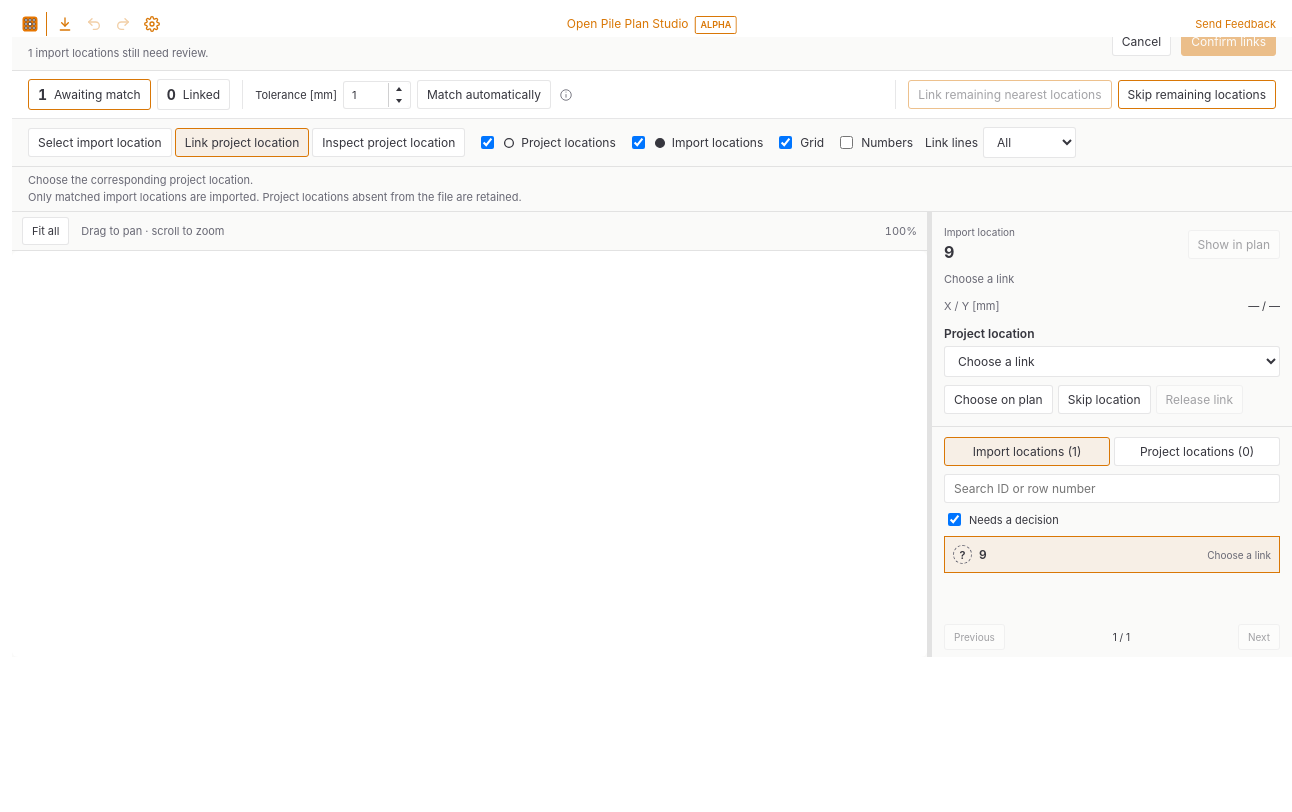
Test: the existing title-bar history buttons operate the active editor and release it on close
The image size is (1292, 812).
Click the button "Skip location".
click(1104, 400)  # box [1058,385,1150,414]
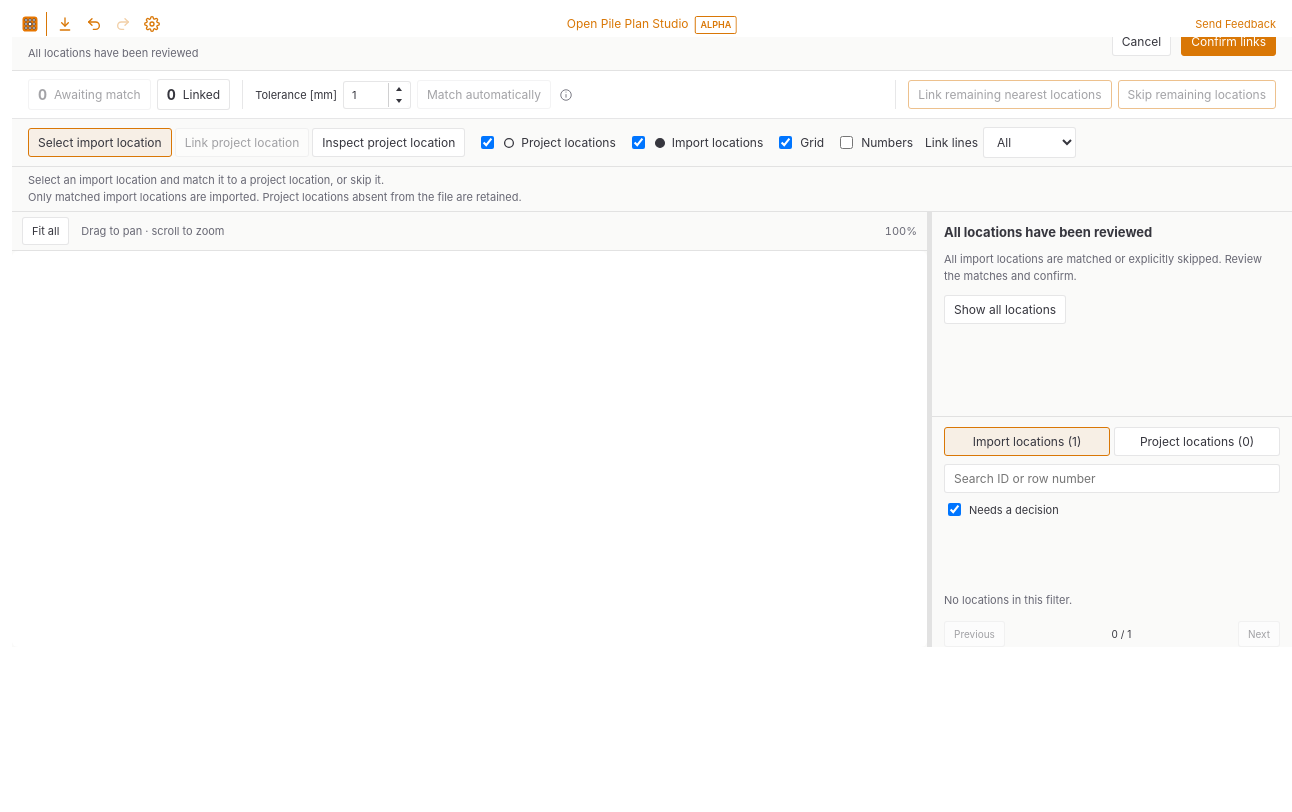
Now the button named "Undo (Ctrl+Z)" is enabled
Click the button named "Undo (Ctrl+Z)".
click(94, 24)  # box [80,12,108,36]
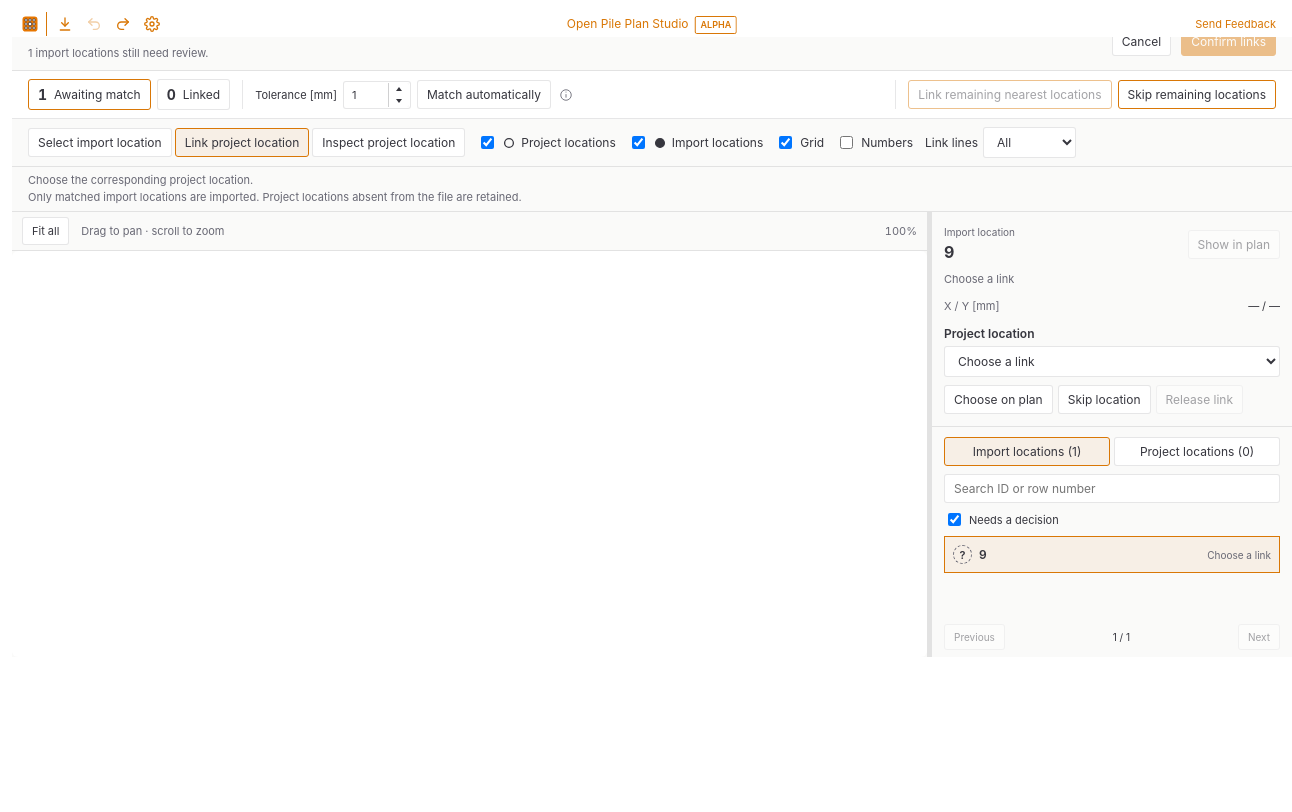
Now the button "Confirm links" is disabled, box [1181,26,1276,56]
Click the button named "Redo (Ctrl+Y)".
click(123, 24)  # box [109,12,137,36]
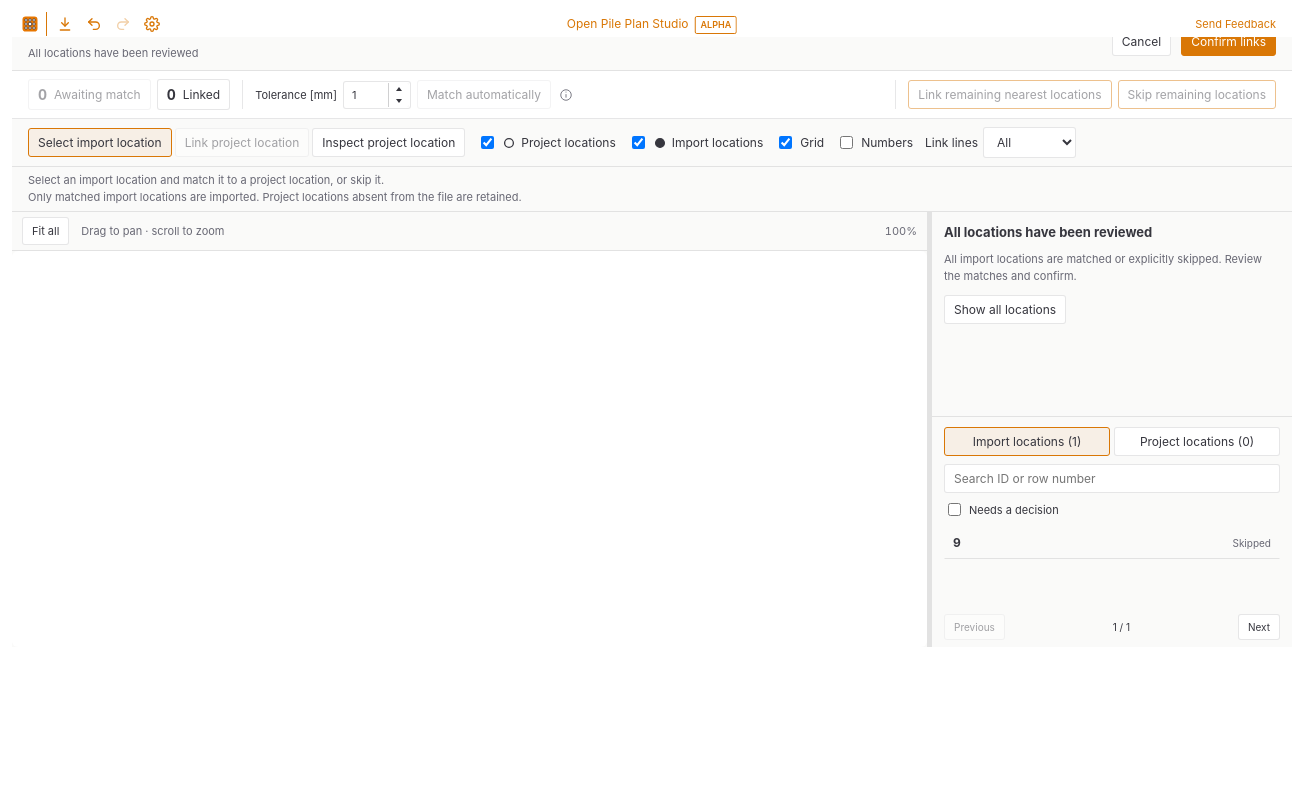
Now the button "Confirm links" is enabled, box [1181,26,1276,56]
Click the button "Cancel".
click(1142, 41)  # box [1112,26,1171,56]
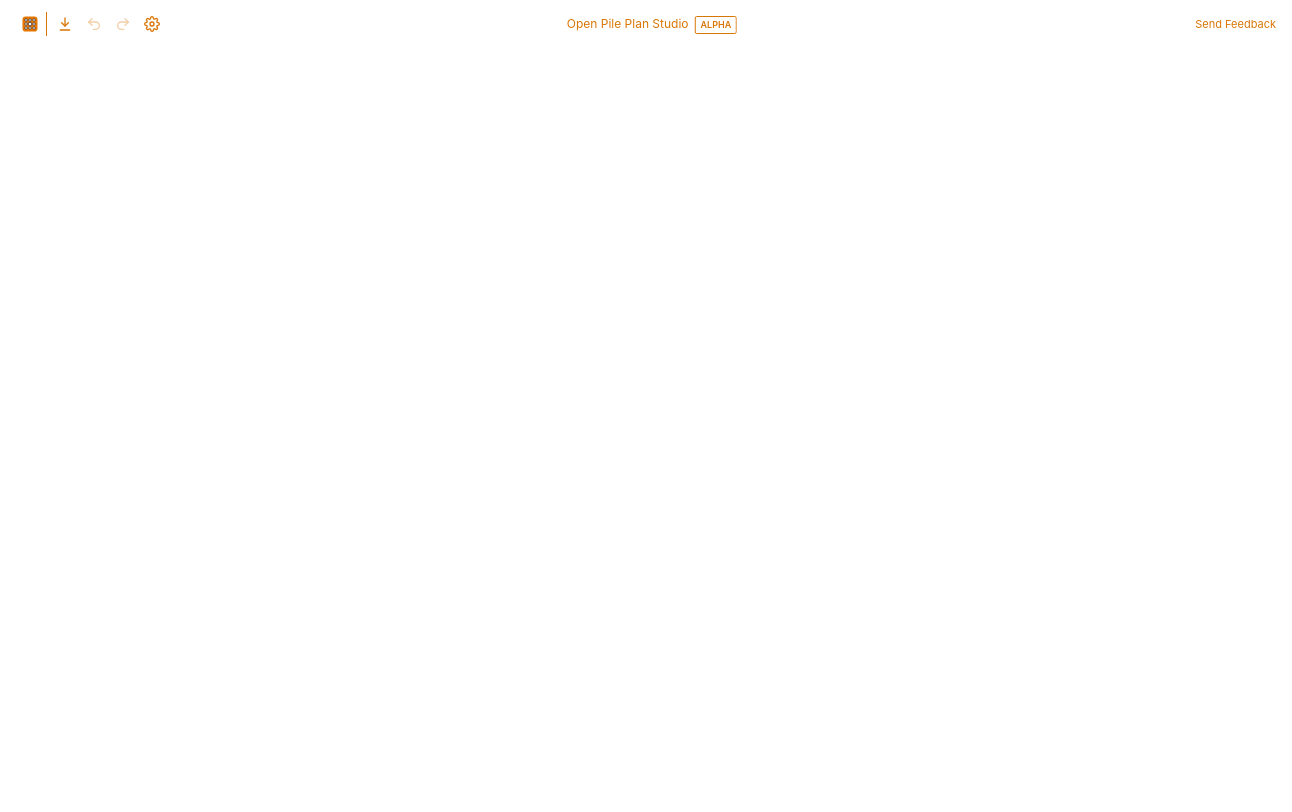
Now the element with class "location-matching-workspace" is gone
Now the button named "Undo (Ctrl+Z)" is disabled, box [80,12,108,36]
